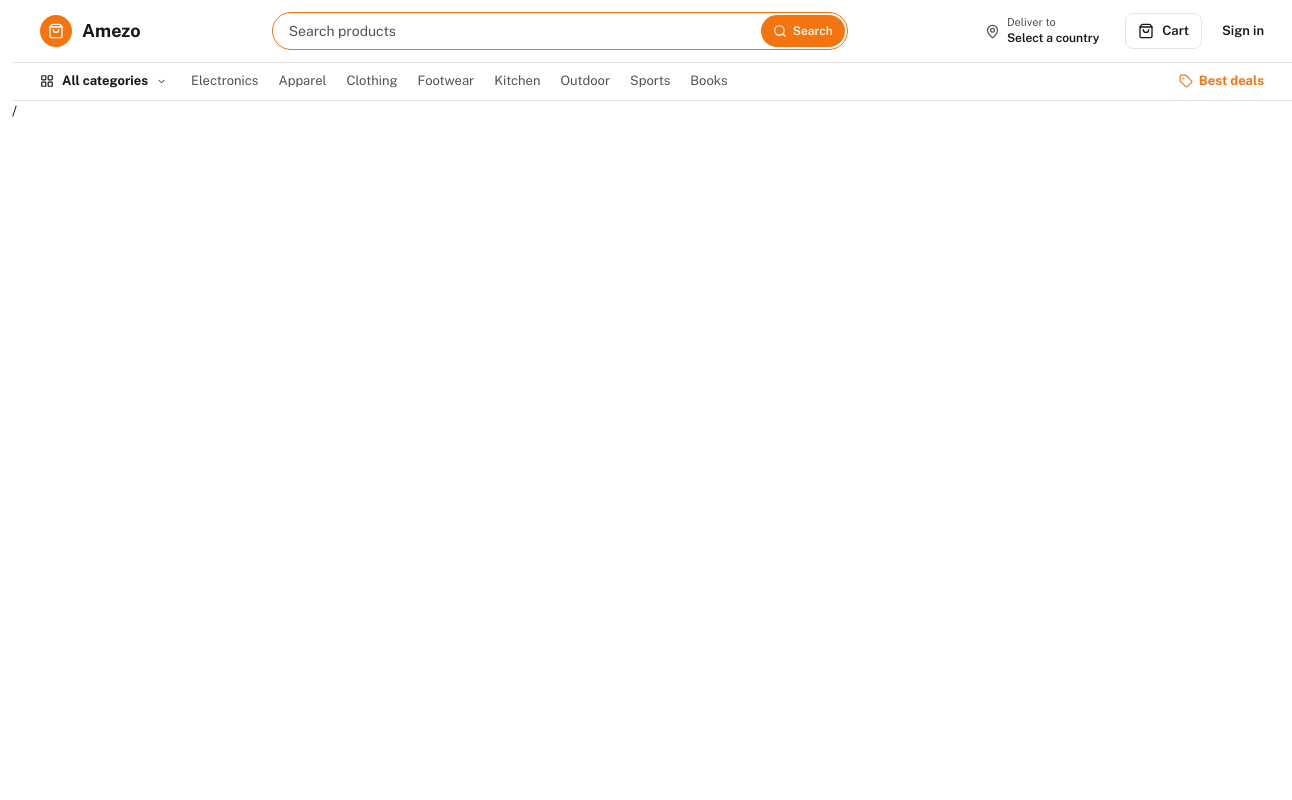
Test: SiteHeader › closes the All categories menu on Escape
The width and height of the screenshot is (1292, 800).
Click the button "All categories" at (104, 81), box [40,72,167,91]
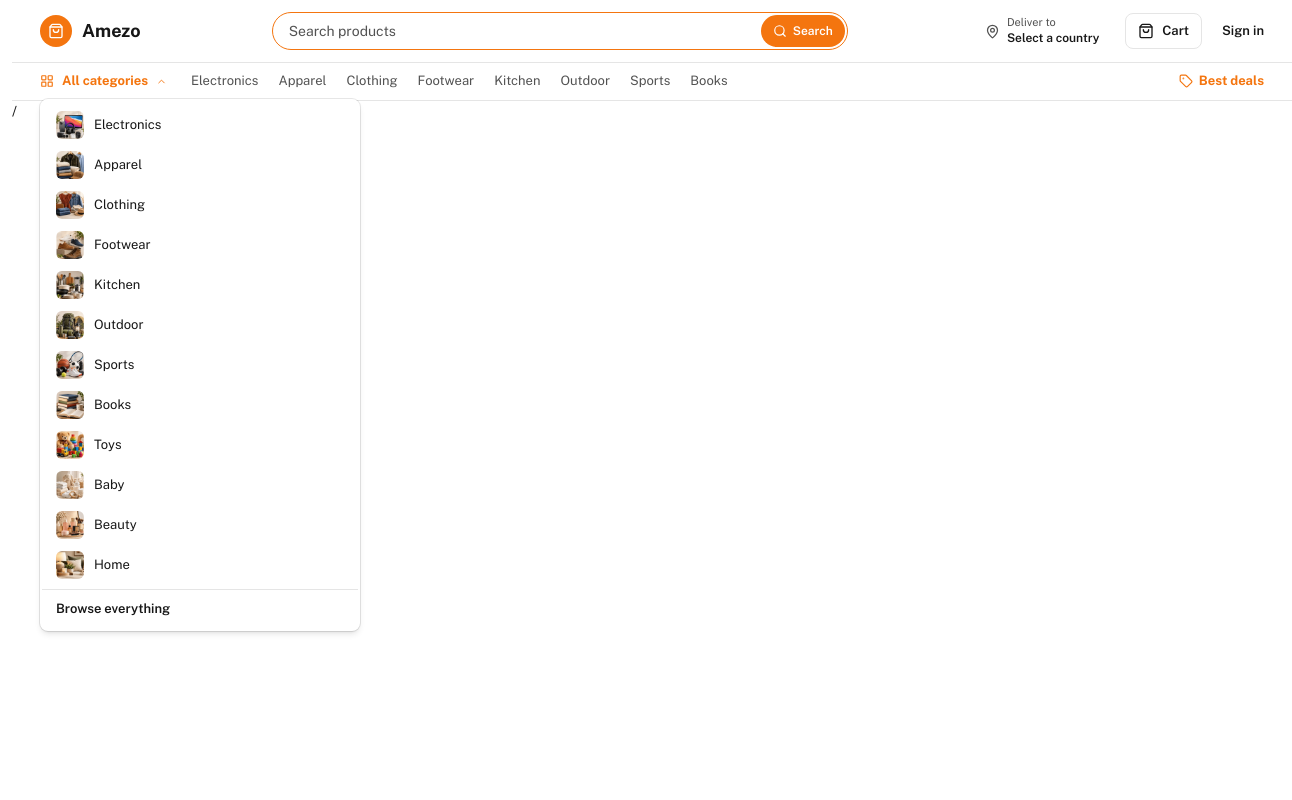
Expected: the menu is shown, [40,99,360,631]
Press Escape
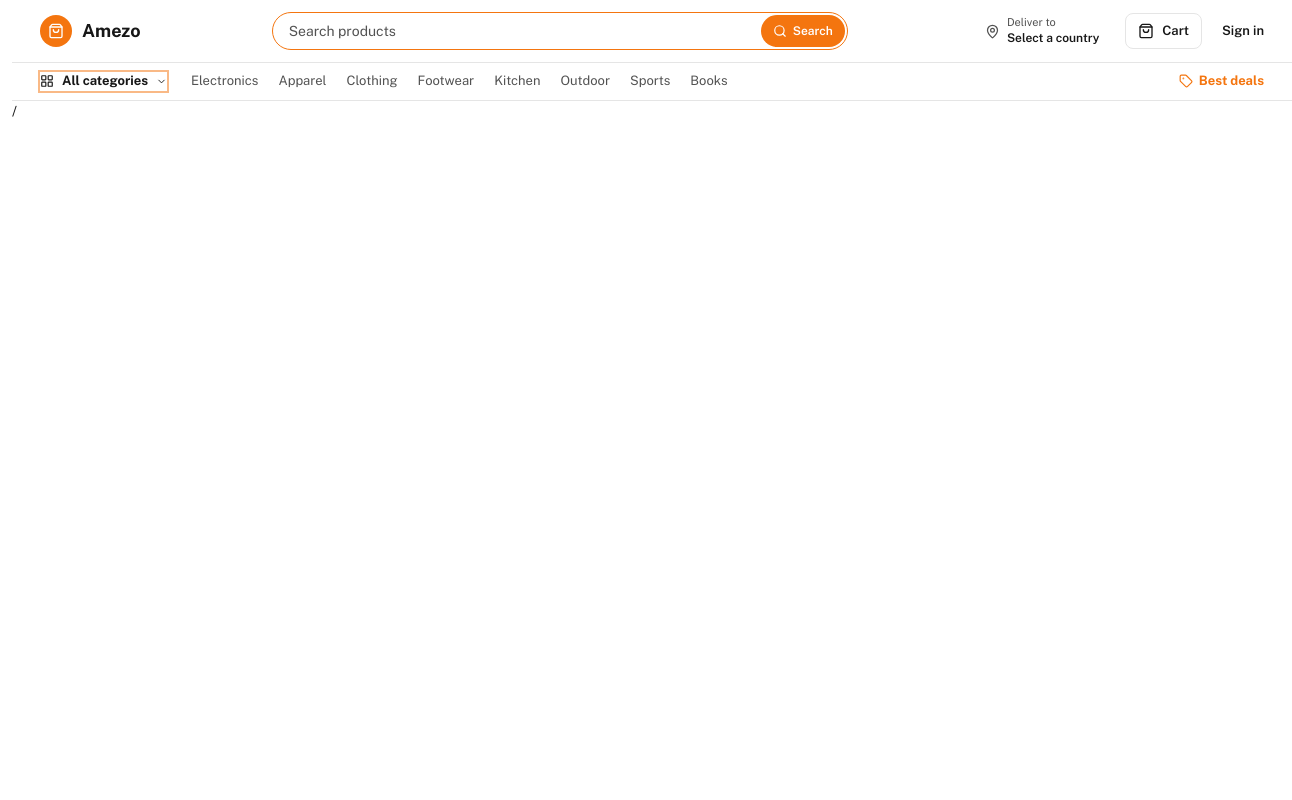
Expected: the menu is gone
